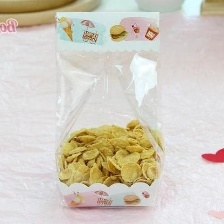snack: (48, 5, 169, 217)
